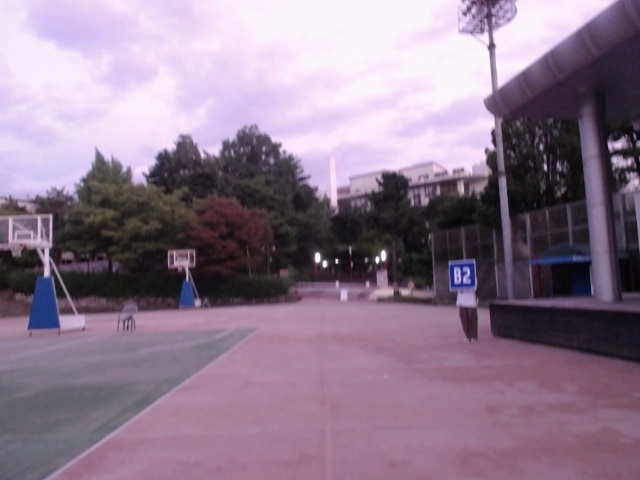delivery_b2: (447, 259, 477, 289)
